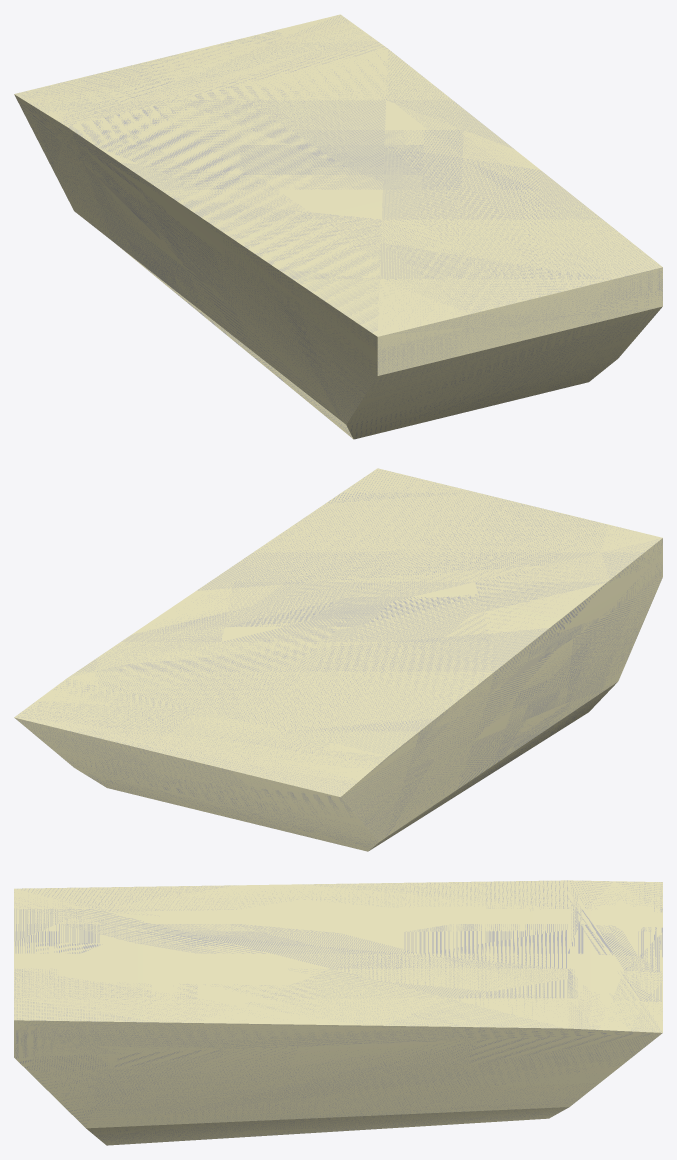
Rendered from original-9.obj.
3 renders of one model, top to bottom at view 1: azimuth 30°, elevation 25°; view 2: azimuth 150°, elevation 25°; view 3: azimuth 270°, elevation 25°, orthographic. The views are drawn at different scales.
Parts seen in each view (by area): view 1: mesh7/mesh7-geometry#mesh7-geometry; view 2: mesh7/mesh7-geometry#mesh7-geometry; view 3: mesh7/mesh7-geometry#mesh7-geometry.
Boxes of the visible parts, x1=… form: mesh7/mesh7-geometry#mesh7-geometry: x1=14, y1=14, x2=662, y2=439; mesh7/mesh7-geometry#mesh7-geometry: x1=14, y1=468, x2=662, y2=851; mesh7/mesh7-geometry#mesh7-geometry: x1=14, y1=880, x2=662, y2=1145.
Size of the model in its own units: 0.2838 by 0.1268 by 0.5163.
